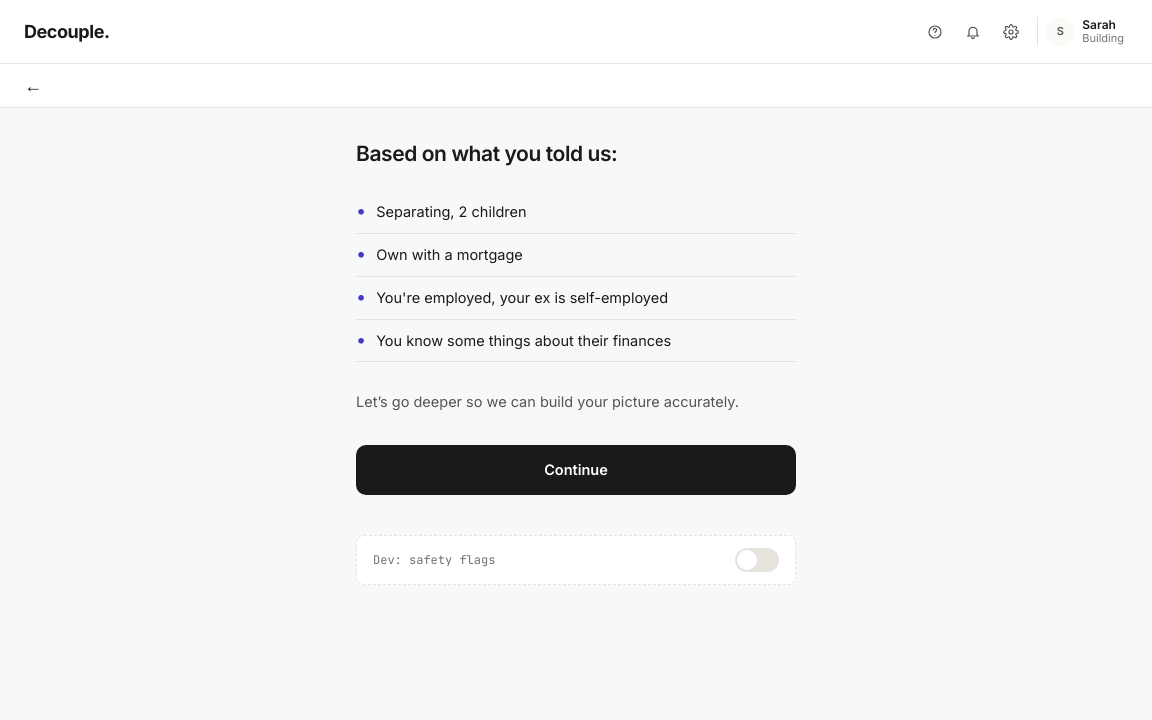
it: /dev/proto/moment-1-ack page › shows safety messaging when flag is toggled (AC-2)
Step 1. Click the switch named "safety" → (757, 560), box [735,548,779,572]
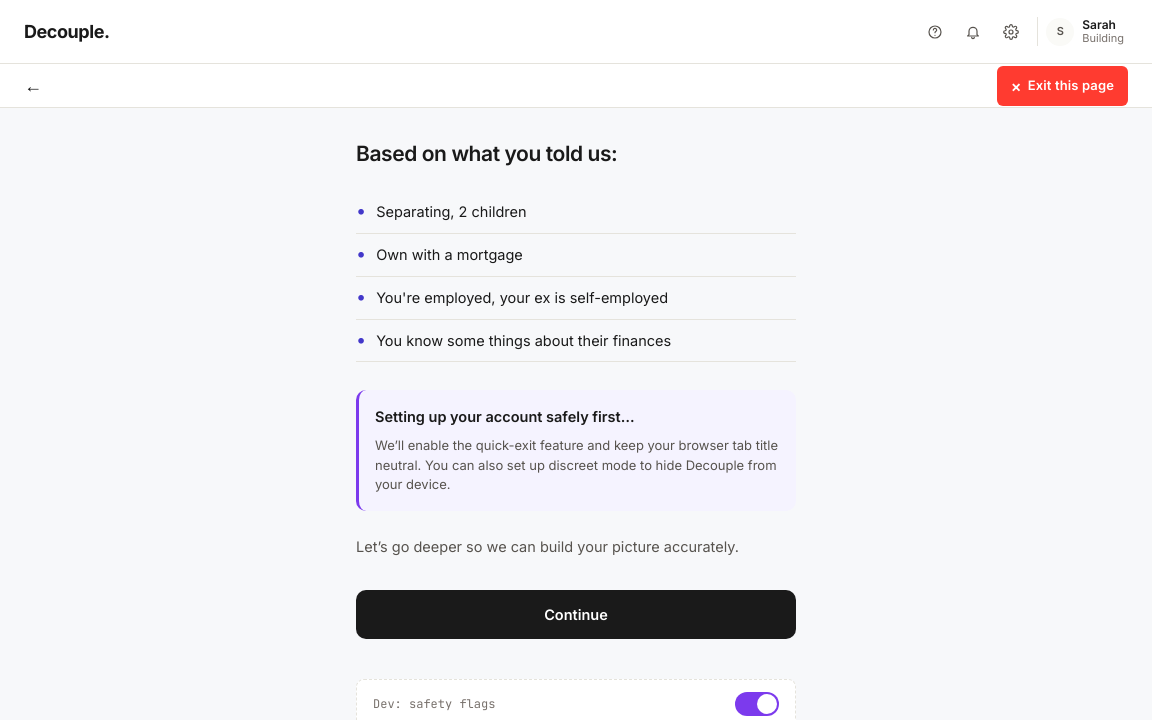
Expected: the text "Setting up your account safely first…" is shown, [375,408,634,425]
